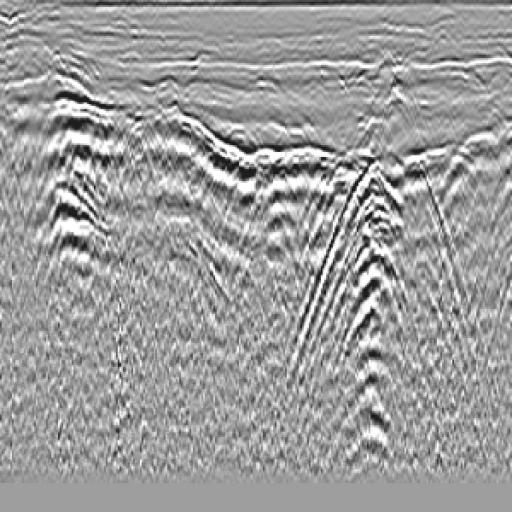metalic: (221, 125, 350, 316)
